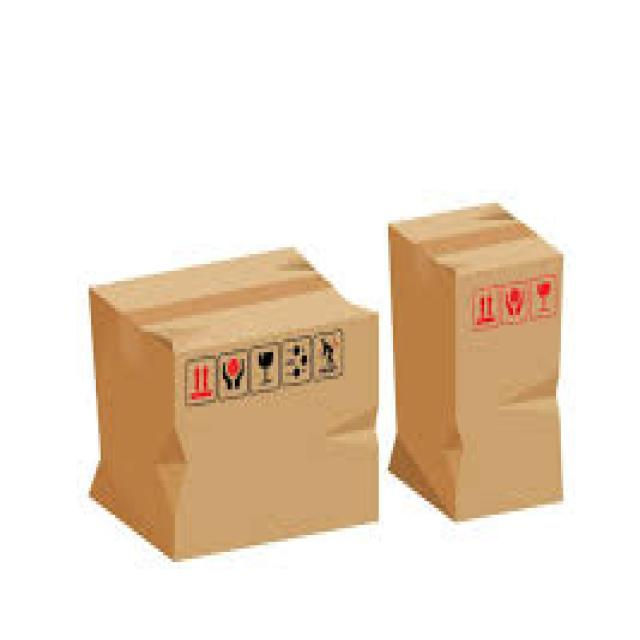Kardus kondisi rusak: (88, 245, 380, 563), (388, 200, 569, 528)
